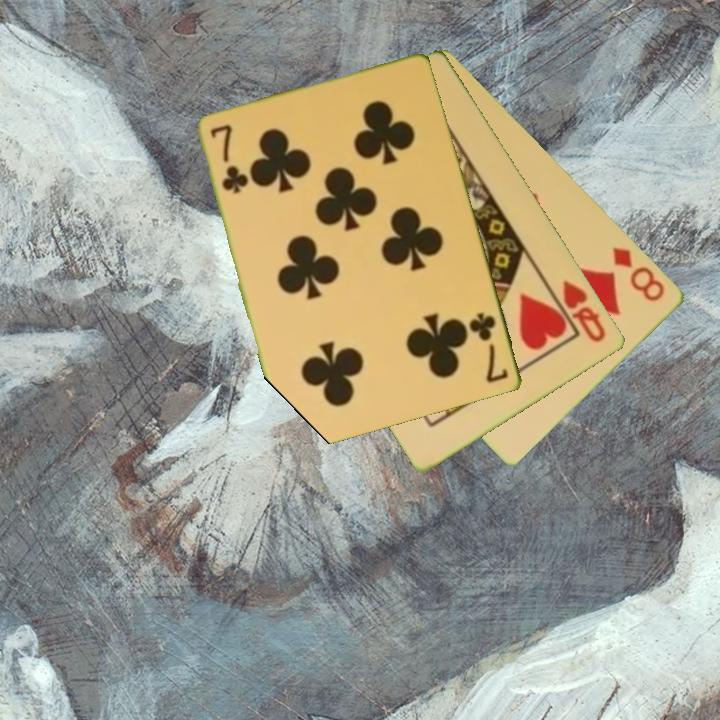7c: (466, 309, 512, 386), (207, 121, 248, 197)
8d: (609, 243, 669, 305)
Qh: (559, 277, 610, 346)
